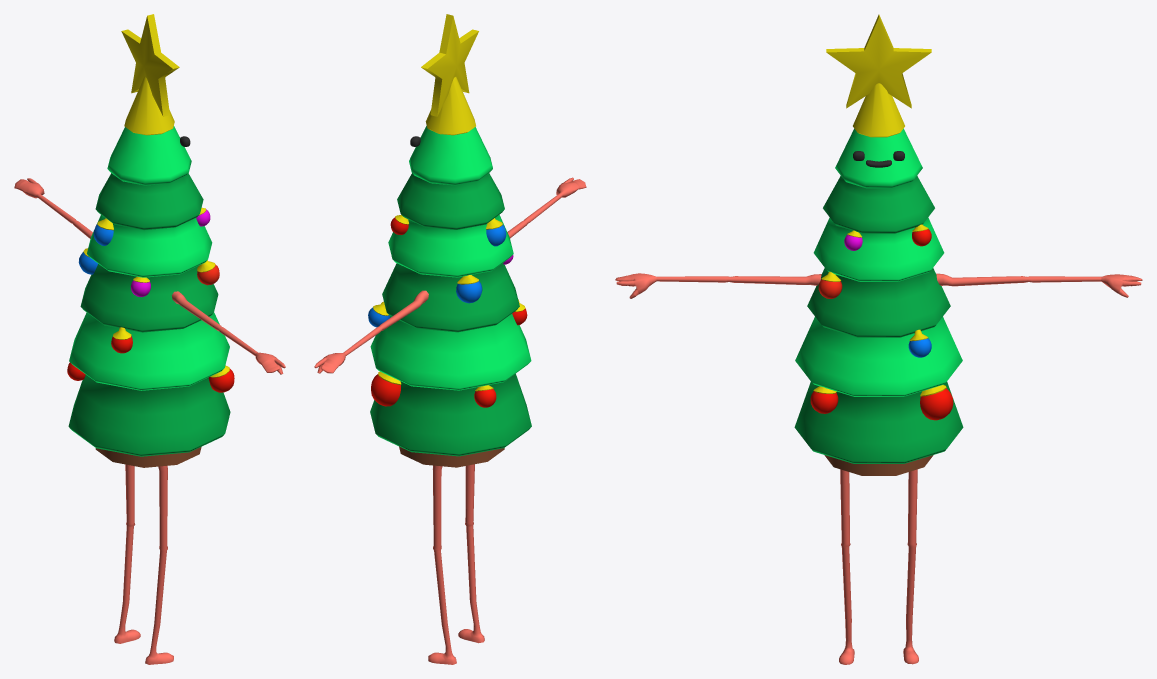
Rendered from Christmas_Tree_Character.glb.
3 views of the same model, side by side, from view 1: azimuth 30°, elevation 25°; view 2: azimuth 150°, elevation 25°; view 3: azimuth 270°, elevation 25° (orthographic). The views are drawn at different scales.
Visible parts, largest first — view 1: mesh_char_129; view 2: mesh_char_129; view 3: mesh_char_129.
Part boxes in pixels (x1=…): mesh_char_129: x1=14, y1=14, x2=285, y2=664; mesh_char_129: x1=314, y1=14, x2=586, y2=664; mesh_char_129: x1=615, y1=14, x2=1142, y2=664.
Size of the model in its own units: 1.19 by 5.29 by 3.92.
Materials: 1 (1 with a texture image).
